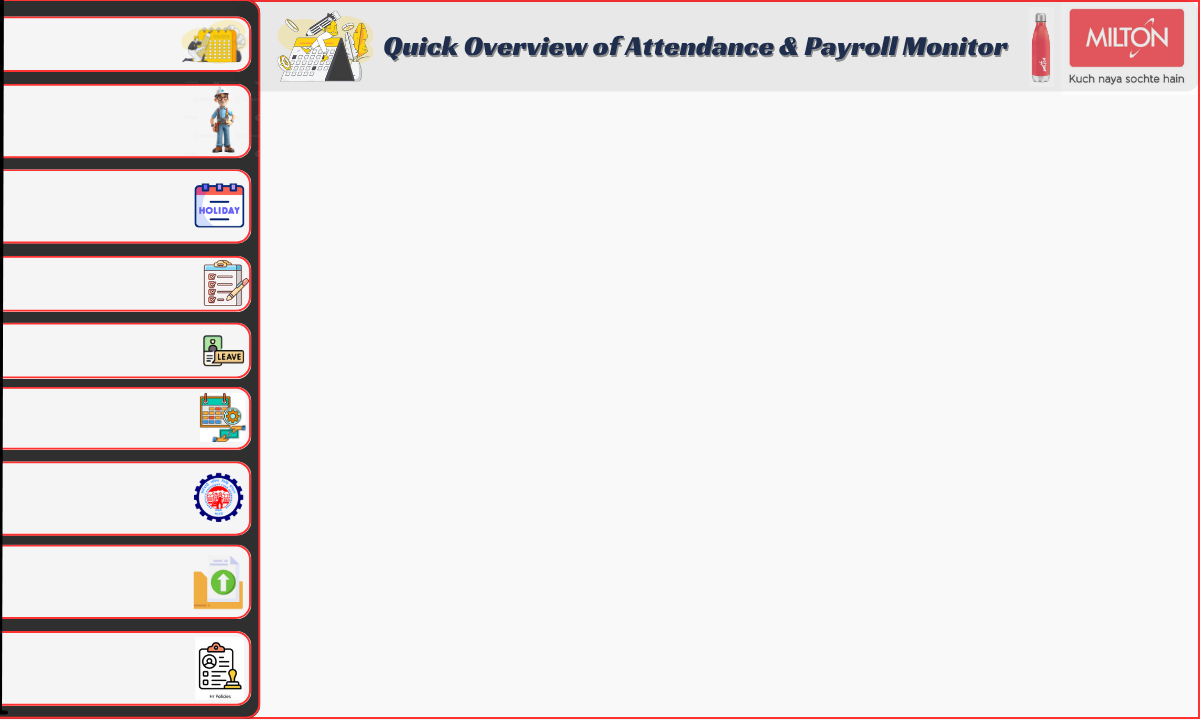

The dashboard page shown, as its layout file describes it:
{"tool":"powerbi","page":{"name":"HR Essentials & Policies","canvas":[1280,720],"ordinal":16},"visuals":[{"type":"actionButton","title":"HR Quick Overview","box":[12,24,181.8,40.6],"z":0},{"type":"actionButton","title":"HR Quick Overview","box":[12,91.6,216.3,60.1],"z":1000},{"type":"actionButton","title":"HR Quick Overview","box":[12,178.8,216.3,60.1],"z":2000},{"type":"actionButton","title":"HR Quick Overview","box":[12,253.9,216.3,60.1],"z":3000},{"type":"actionButton","title":"HR Quick Overview","box":[12,320,216.3,60.1],"z":4000},{"type":"actionButton","title":"HR Quick Overview","box":[12,392.1,216.3,60.1],"z":5000},{"type":"actionButton","title":"HR Quick Overview","box":[12,468.7,216.3,60.1],"z":6000},{"type":"actionButton","title":"HR Quick Overview","box":[12,551.4,216.3,60.1],"z":7000},{"type":"actionButton","title":"HR Quick Overview","box":[12,640,216.3,60.1],"z":8000},{"type":"shape","box":[279.9,92.3,999.8,627.6],"z":9000},{"type":"textbox","title":"📋 HR Essentials & Policies","box":[285.7,109.6,988.3,595.9],"z":12000}]}

Visuals, with their boxes on the page's 1280x720 design canvas (x1, y1, x2, y2). These are canvas units, not pixel positions in the 1200x720 screenshot, which may show the page scaled, cropped or inside an application window:
"HR Quick Overview" actionButton: bbox=[12, 24, 194, 65]
"HR Quick Overview" actionButton: bbox=[12, 92, 228, 152]
"HR Quick Overview" actionButton: bbox=[12, 179, 228, 239]
"HR Quick Overview" actionButton: bbox=[12, 254, 228, 314]
"HR Quick Overview" actionButton: bbox=[12, 320, 228, 380]
"HR Quick Overview" actionButton: bbox=[12, 392, 228, 452]
"HR Quick Overview" actionButton: bbox=[12, 469, 228, 529]
"HR Quick Overview" actionButton: bbox=[12, 551, 228, 612]
"HR Quick Overview" actionButton: bbox=[12, 640, 228, 700]
shape: bbox=[280, 92, 1280, 720]
"📋 HR Essentials & Policies" textbox: bbox=[286, 110, 1274, 706]
